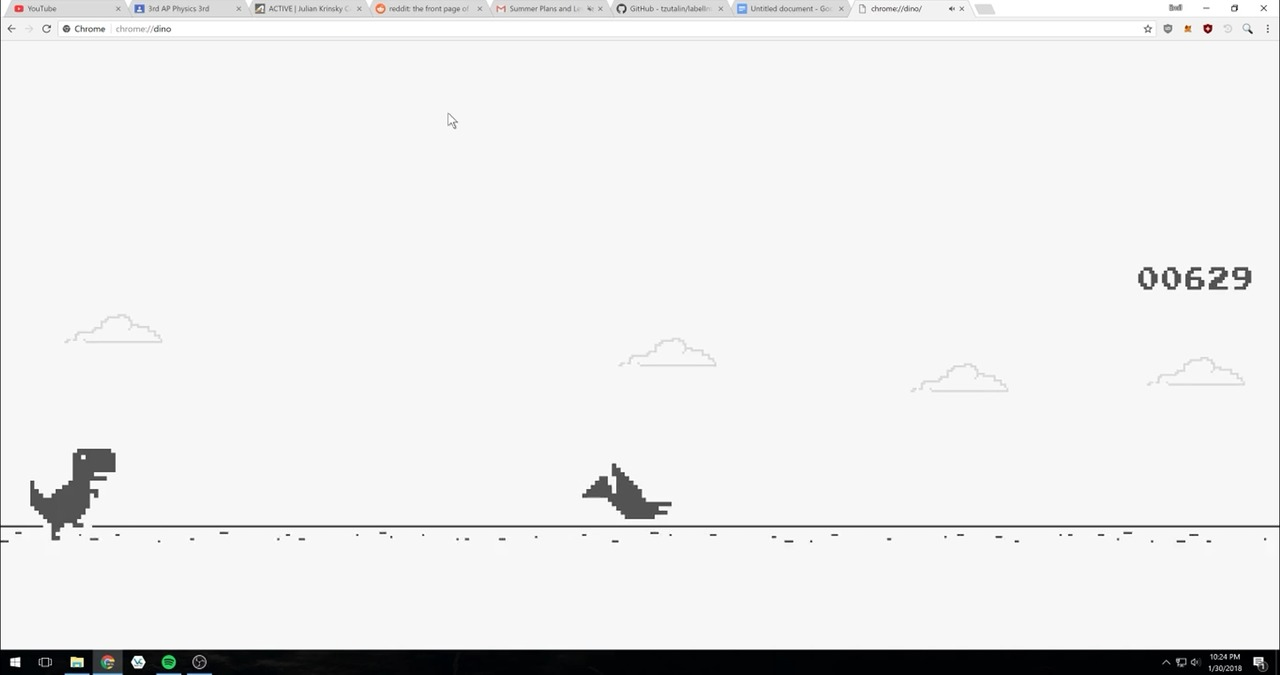bird: (580, 460, 674, 521)
dinosaur: (26, 447, 117, 543)
